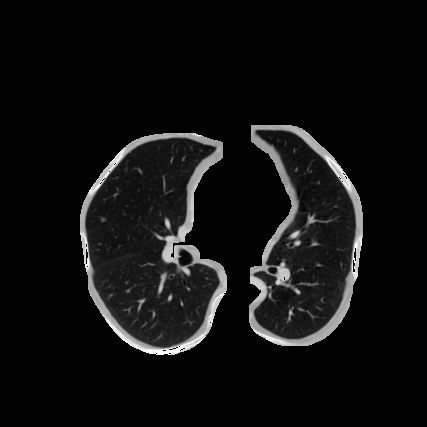PN: (101, 218, 105, 222)
